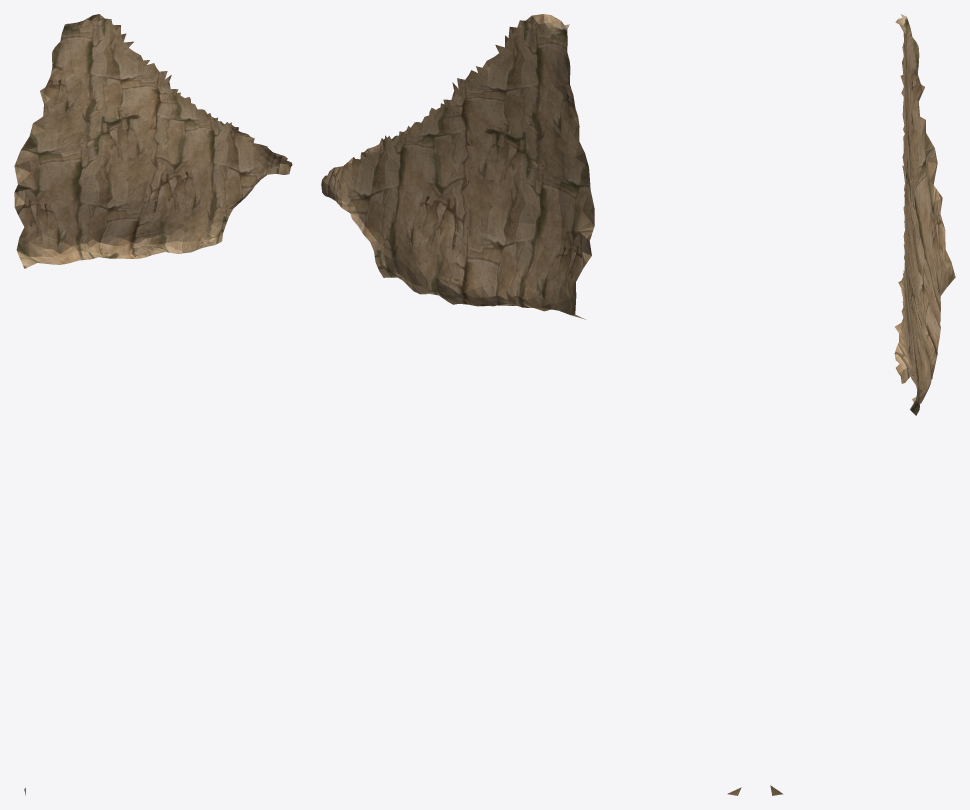
The model's file is Waterfall.Ramp.fbx.
3 views of the same model, side by side, from view 1: azimuth 30°, elevation 25°; view 2: azimuth 150°, elevation 25°; view 3: azimuth 270°, elevation 25° (orthographic). The views are drawn at different scales.
Parts seen in each view (by area): view 1: Waterfall.Ramp001; view 2: Waterfall.Ramp001; view 3: Waterfall.Ramp001.
Boxes of the visible parts, x1=… form: Waterfall.Ramp001: x1=14, y1=14, x2=292, y2=795; Waterfall.Ramp001: x1=321, y1=14, x2=741, y2=795; Waterfall.Ramp001: x1=770, y1=14, x2=955, y2=795.
Bounding box in the file's own units: 1417 × 2987 × 597.
1 material, 1 textured.
